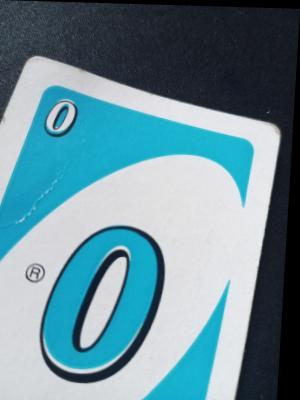blue: (20, 86, 232, 384)
num_0: (39, 90, 81, 145)
